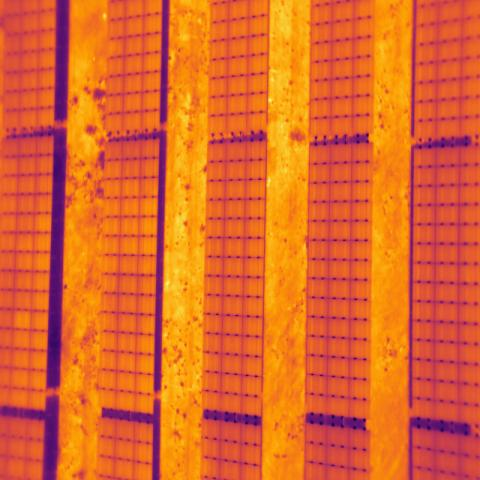fault: (13, 310, 30, 330)
